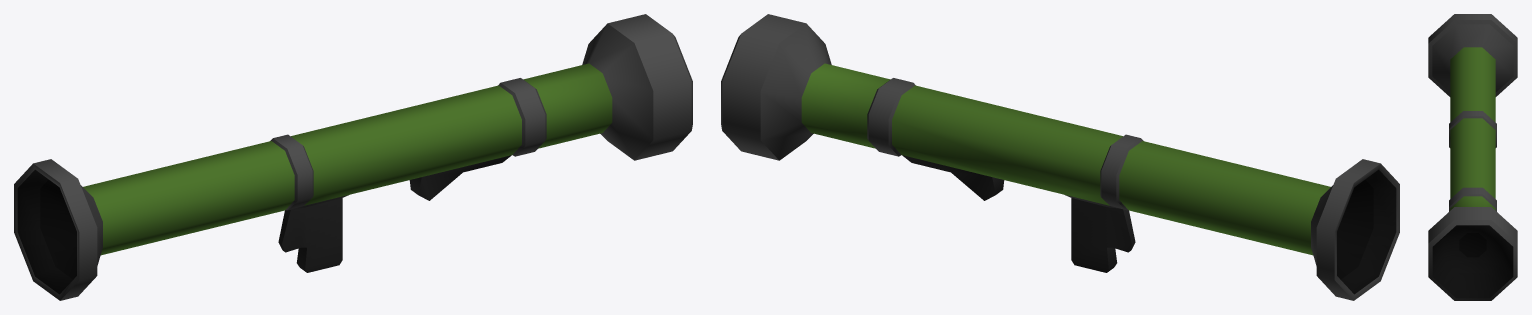
Rendered from Gun test.fbx.
3 views of the same model, side by side, from view 1: azimuth 30°, elevation 25°; view 2: azimuth 150°, elevation 25°; view 3: azimuth 270°, elevation 25° (orthographic). The views are drawn at different scales.
Parts seen in each view (by area): view 1: Bazooka; view 2: Bazooka; view 3: Bazooka.
Part boxes in pixels (left/top/right/bottom): Bazooka: left=14, top=14, right=692, bottom=300; Bazooka: left=721, top=14, right=1399, bottom=300; Bazooka: left=1428, top=14, right=1517, bottom=300.
Size of the model in its own units: 1.73 by 0.4292 by 0.3164.
1 material, 1 textured.
